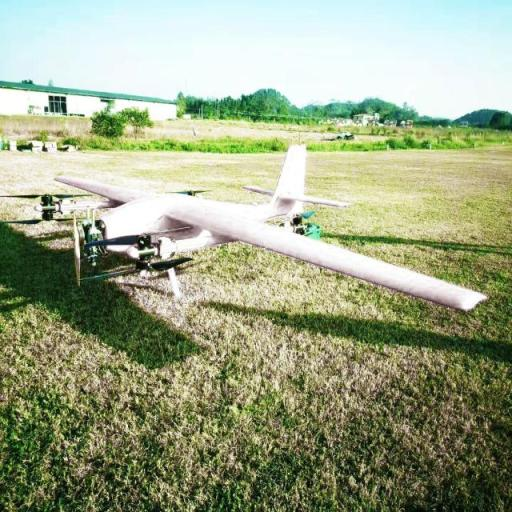uav: (30, 139, 485, 328)
